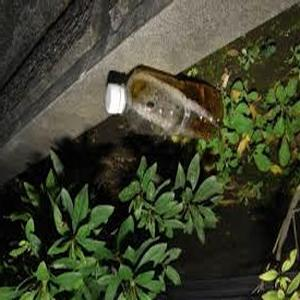Plastic: (104, 64, 225, 137)
